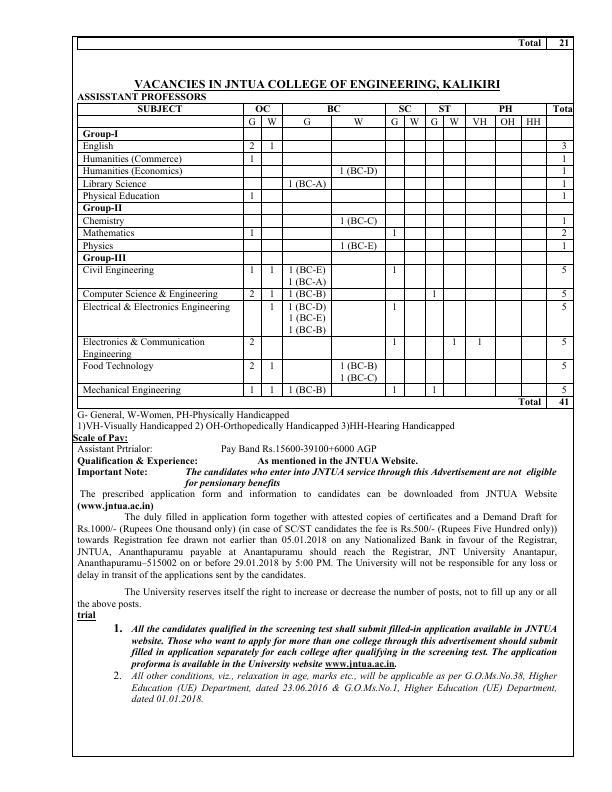table: (63, 30, 581, 762)
